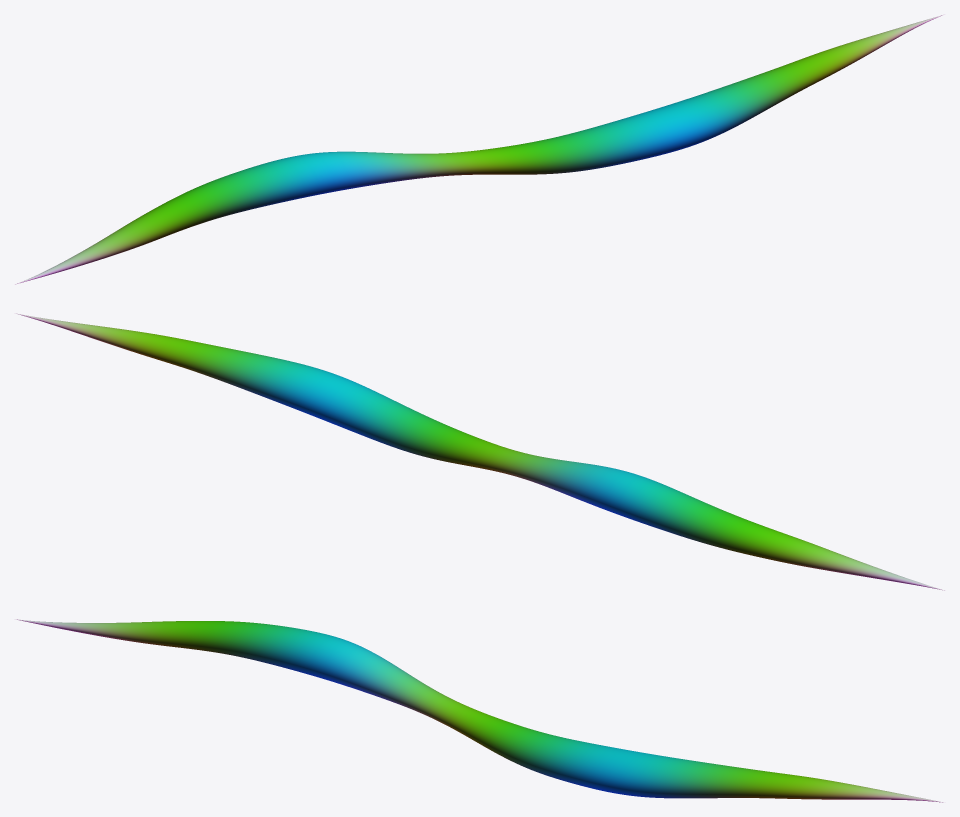
Rendered from env_sky_cloudband_a.fbx.
3 views of the same model, one above another, from view 1: azimuth 30°, elevation 25°; view 2: azimuth 150°, elevation 25°; view 3: azimuth 330°, elevation 25° (orthographic).
Parts seen in each view (by area): view 1: env_sky_cloudband_a; view 2: env_sky_cloudband_a; view 3: env_sky_cloudband_a.
Part boxes in pixels (left/top/right/bottom): env_sky_cloudband_a: left=15, top=14, right=944, bottom=284; env_sky_cloudband_a: left=15, top=313, right=944, bottom=590; env_sky_cloudband_a: left=16, top=619, right=943, bottom=802.
Bounding box in the file's own units: 40 × 2.06 × 5.1.
